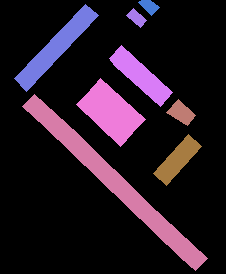parkingspot: (22, 94, 207, 270), (14, 4, 98, 91), (109, 45, 172, 106), (87, 78, 145, 133), (76, 92, 132, 146), (153, 134, 201, 185), (166, 99, 195, 125), (126, 8, 146, 27), (138, 0, 159, 15)
